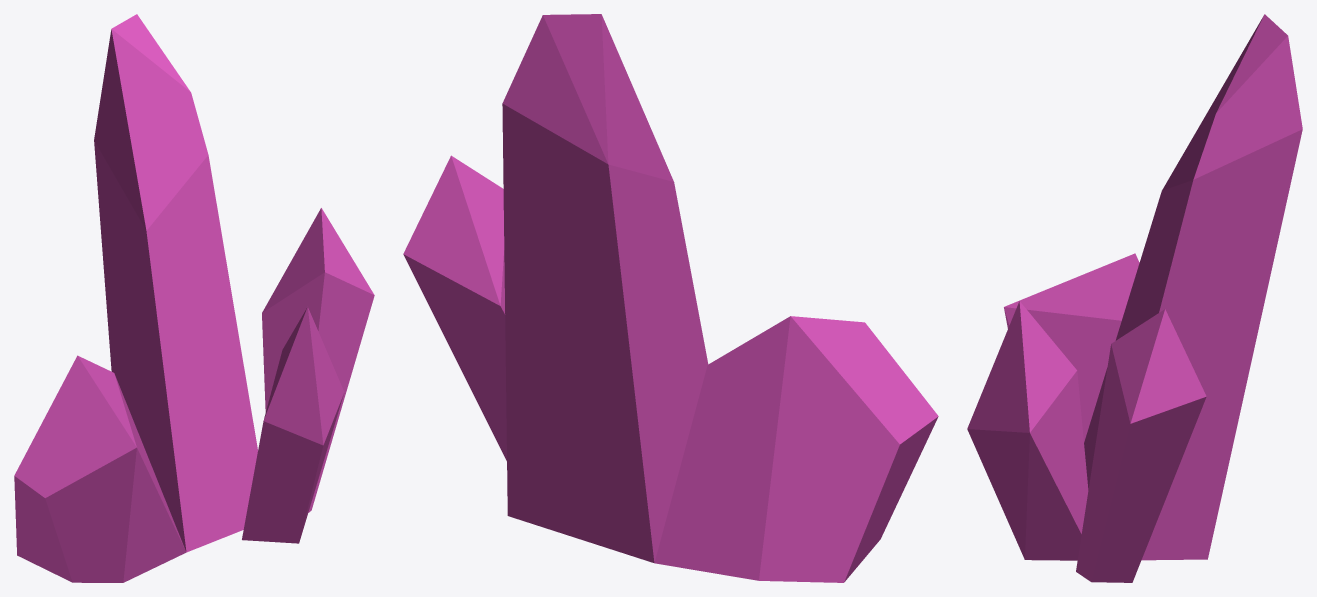
File: Crystal-D01.fbx
The picture shows the model from 3 angles, left to right: view 1: azimuth 30°, elevation 25°; view 2: azimuth 150°, elevation 25°; view 3: azimuth 270°, elevation 25°; orthographic projection. The views are drawn at different scales.
Visible parts, largest first — view 1: Crystal-D01; view 2: Crystal-D01; view 3: Crystal-D01.
Boxes of the visible parts, x1,y1,x2,y2 form: Crystal-D01: (14,14,374,582); Crystal-D01: (403,14,938,582); Crystal-D01: (967,14,1302,582).
Bounding box in the file's own units: 169 × 199 × 120.
